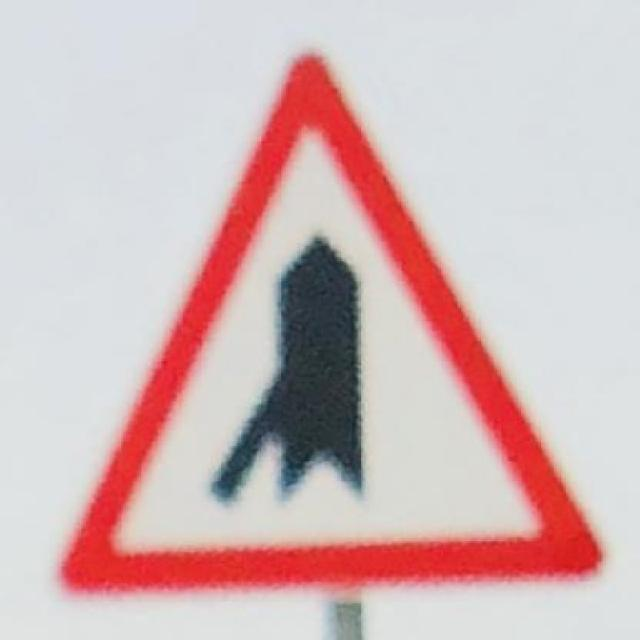cross road: (41, 35, 612, 594)
